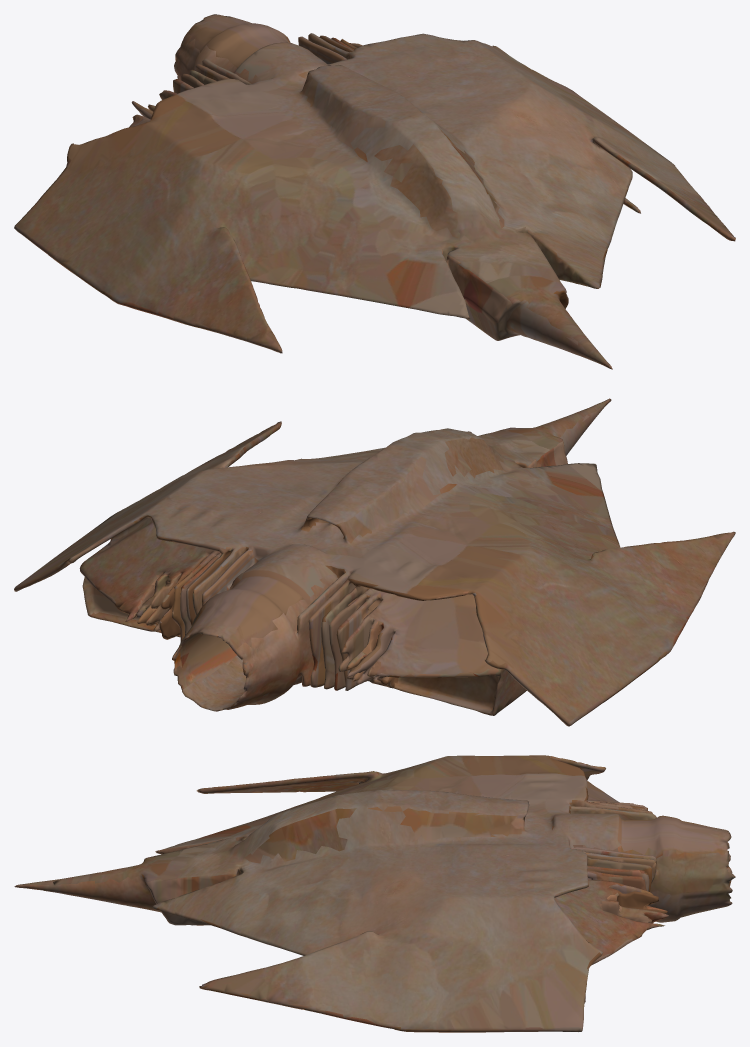
The model's file is Spaceship.obj.
The picture shows the model from 3 angles, top to bottom: view 1: azimuth 30°, elevation 25°; view 2: azimuth 150°, elevation 25°; view 3: azimuth 270°, elevation 25°; orthographic projection. The views are drawn at different scales.
Visible parts, largest first — view 1: file1; view 2: file1; view 3: file1.
Part boxes in pixels (<box>): file1: <box>14,14,735,369</box>; file1: <box>14,398,735,726</box>; file1: <box>14,755,735,1032</box>.
Size of the model in its own units: 1.61 by 0.4379 by 2.02.
